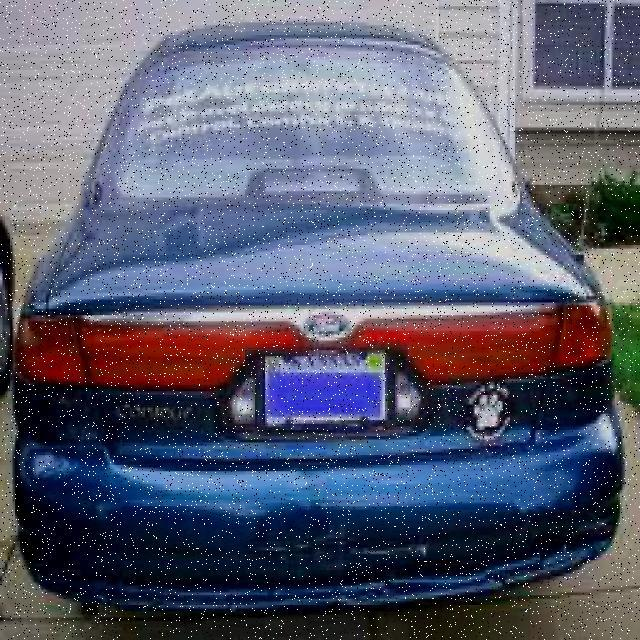car damage: (506, 471, 618, 575), (254, 494, 372, 587)
